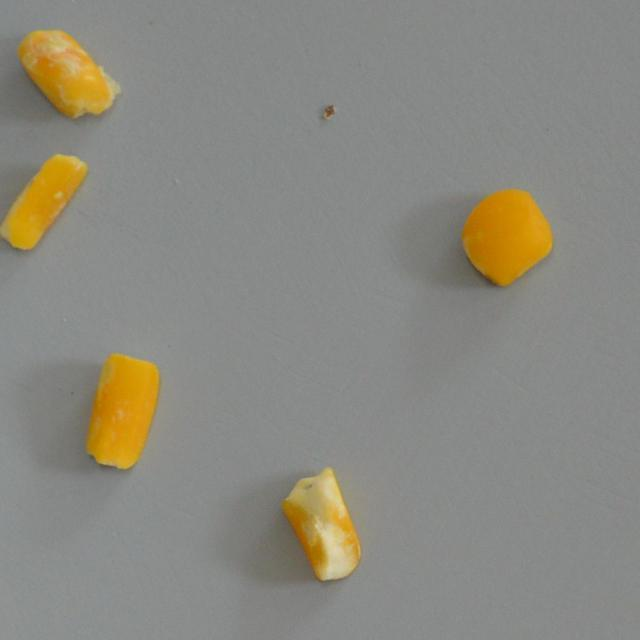estandar: (84, 352, 161, 471), (0, 152, 86, 250)
no_canjicado: (458, 188, 554, 286)
pelicula: (15, 27, 118, 118)
punto_negro: (280, 466, 362, 581)
